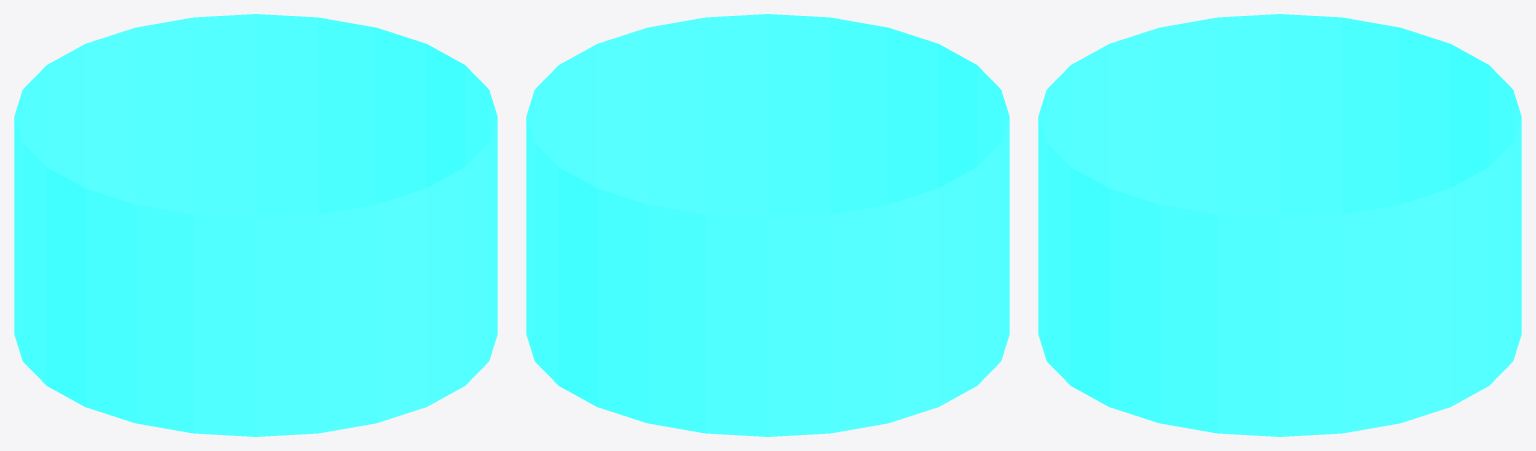
Rendered from vfx_checkpoint_ring.glb.
The picture shows the model from 3 angles, left to right: view 1: azimuth 30°, elevation 25°; view 2: azimuth 150°, elevation 25°; view 3: azimuth 270°, elevation 25°; orthographic projection.
Visible parts, largest first — view 1: Ring; view 2: Ring; view 3: Ring.
Part boxes in pixels (box(x1,y1,x2,y2)): Ring: box(14, 14, 497, 436); Ring: box(526, 14, 1009, 436); Ring: box(1038, 14, 1521, 436).
Size of the model in its own units: 2 by 1 by 2.
